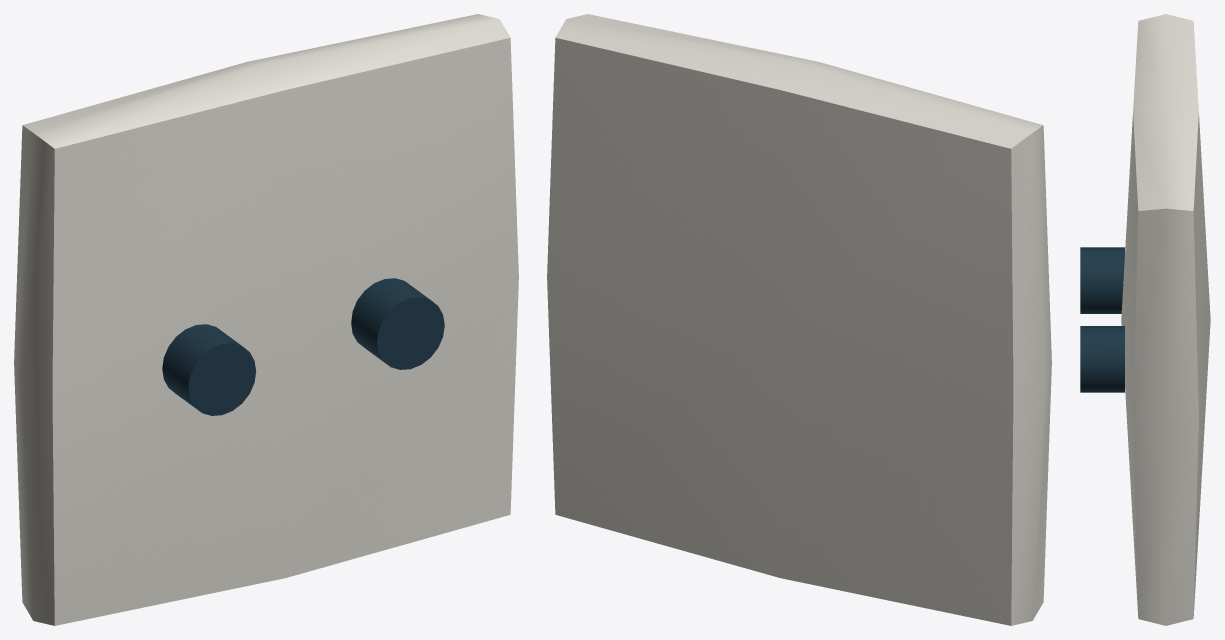
File: socket.glb
3 views of the same model, side by side, from view 1: azimuth 30°, elevation 25°; view 2: azimuth 150°, elevation 25°; view 3: azimuth 270°, elevation 25° (orthographic). The views are drawn at different scales.
Parts seen in each view (by area): view 1: socket; view 2: socket; view 3: socket.
Part boxes in pixels (x1=…): socket: x1=14, y1=14, x2=518, y2=625; socket: x1=547, y1=14, x2=1051, y2=625; socket: x1=1080, y1=14, x2=1210, y2=625.
Bounding box in the file's own units: 0.13 × 0.13 × 0.035.
Materials: 3 (3 with a texture image).
